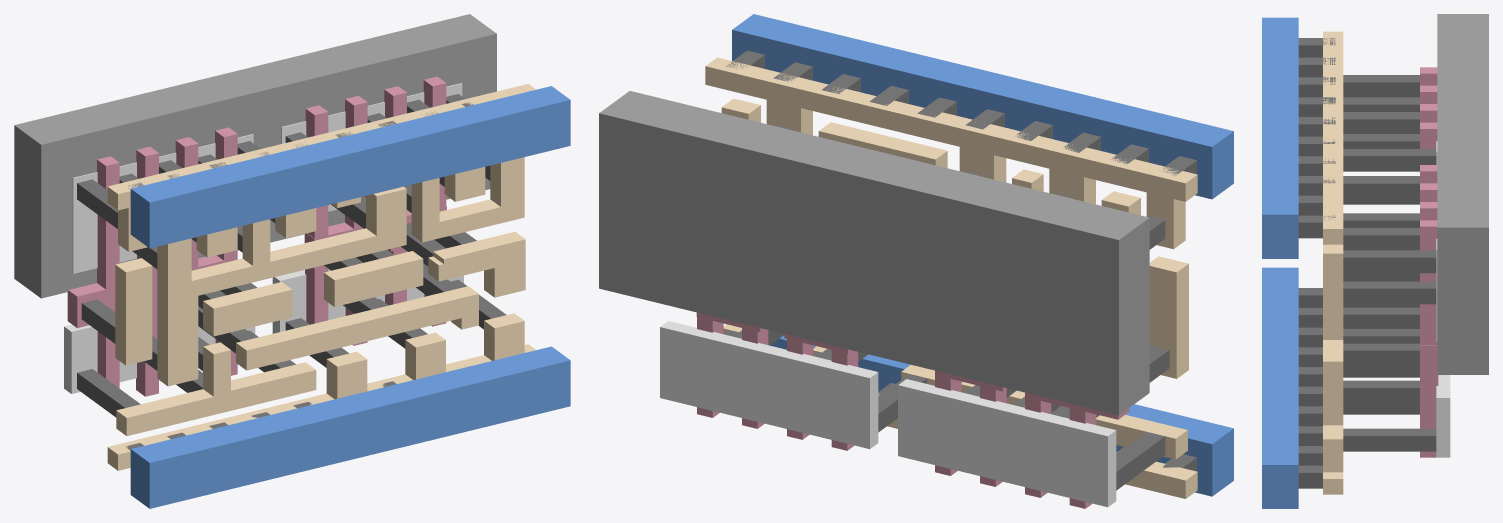
Rendered from sky130_fd_sc_hd__o211ai_2.gds.gltf.
The picture shows the model from 3 angles, left to right: view 1: azimuth 30°, elevation 25°; view 2: azimuth 150°, elevation 25°; view 3: azimuth 270°, elevation 25°; orthographic projection. The views are drawn at different scales.
Parts seen in each view (by area): view 1: sky130_fd_sc_hd__o211ai_2_li1, sky130_fd_sc_hd__o211ai_2_met1, sky130_fd_sc_hd__o211ai_2_nwell, sky130_fd_sc_hd__o211ai_2_poly, sky130_fd_sc_hd__o211ai_2_licon, sky130_fd_sc_hd__o211ai_2_diff, sky130_fd_sc_hd__o211ai_2_mcon; view 2: sky130_fd_sc_hd__o211ai_2_nwell, sky130_fd_sc_hd__o211ai_2_diff, sky130_fd_sc_hd__o211ai_2_li1, sky130_fd_sc_hd__o211ai_2_met1, sky130_fd_sc_hd__o211ai_2_mcon, sky130_fd_sc_hd__o211ai_2_poly, sky130_fd_sc_hd__o211ai_2_licon; view 3: sky130_fd_sc_hd__o211ai_2_licon, sky130_fd_sc_hd__o211ai_2_nwell, sky130_fd_sc_hd__o211ai_2_met1, sky130_fd_sc_hd__o211ai_2_mcon, sky130_fd_sc_hd__o211ai_2_li1, sky130_fd_sc_hd__o211ai_2_poly, sky130_fd_sc_hd__o211ai_2_diff.
Part boxes in pixels (<box>): sky130_fd_sc_hd__o211ai_2_li1: <box>107,84,535,470</box>; sky130_fd_sc_hd__o211ai_2_met1: <box>130,86,570,508</box>; sky130_fd_sc_hd__o211ai_2_nwell: <box>14,14,496,298</box>; sky130_fd_sc_hd__o211ai_2_poly: <box>67,76,446,396</box>; sky130_fd_sc_hd__o211ai_2_licon: <box>77,94,506,417</box>; sky130_fd_sc_hd__o211ai_2_diff: <box>64,83,463,393</box>; sky130_fd_sc_hd__o211ai_2_mcon: <box>126,102,473,450</box>; sky130_fd_sc_hd__o211ai_2_nwell: <box>599,91,1149,415</box>; sky130_fd_sc_hd__o211ai_2_diff: <box>660,321,1116,507</box>; sky130_fd_sc_hd__o211ai_2_li1: <box>705,57,1197,498</box>; sky130_fd_sc_hd__o211ai_2_met1: <box>732,14,1233,496</box>; sky130_fd_sc_hd__o211ai_2_mcon: <box>726,50,1196,471</box>; sky130_fd_sc_hd__o211ai_2_poly: <box>696,312,1129,508</box>; sky130_fd_sc_hd__o211ai_2_licon: <box>724,125,1169,490</box>; sky130_fd_sc_hd__o211ai_2_licon: <box>1343,75,1436,451</box>; sky130_fd_sc_hd__o211ai_2_nwell: <box>1437,14,1488,374</box>; sky130_fd_sc_hd__o211ai_2_met1: <box>1262,17,1298,508</box>; sky130_fd_sc_hd__o211ai_2_mcon: <box>1298,38,1335,488</box>; sky130_fd_sc_hd__o211ai_2_li1: <box>1323,31,1343,494</box>; sky130_fd_sc_hd__o211ai_2_poly: <box>1420,67,1438,457</box>; sky130_fd_sc_hd__o211ai_2_diff: <box>1436,141,1450,457</box>.
Bounding box in the file's own units: 4.98 × 3.2 × 2.24.
